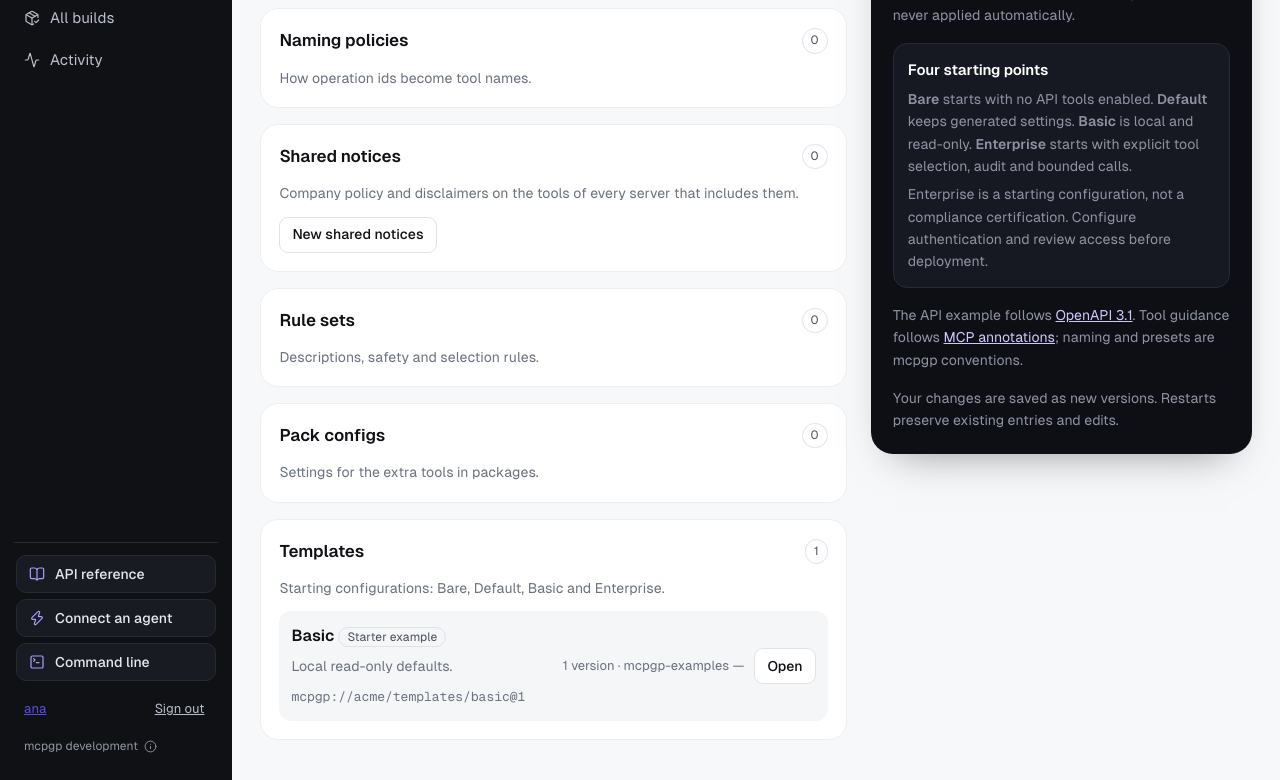
Test case: shows reusable starter templates and opens their source without applying them
This screenshot has width=1280, height=780.
(page scrolled)
Expected: the text "Starter example" is shown, [338,627,446,647]
Click the button "Open": click(785, 666) [754,648,816,684]
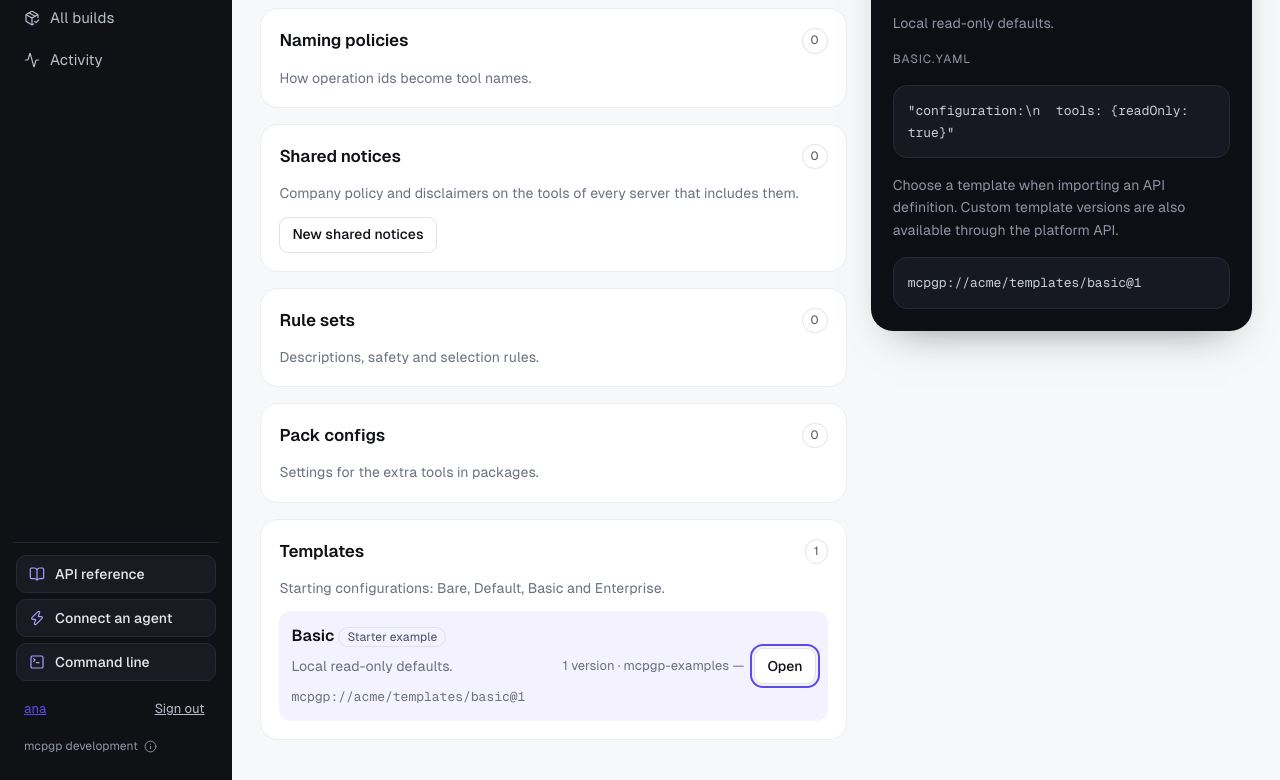
Now the text "\"configuration:\\n tools: {readOnly: true}\"" is shown, box [893,85,1230,158]
